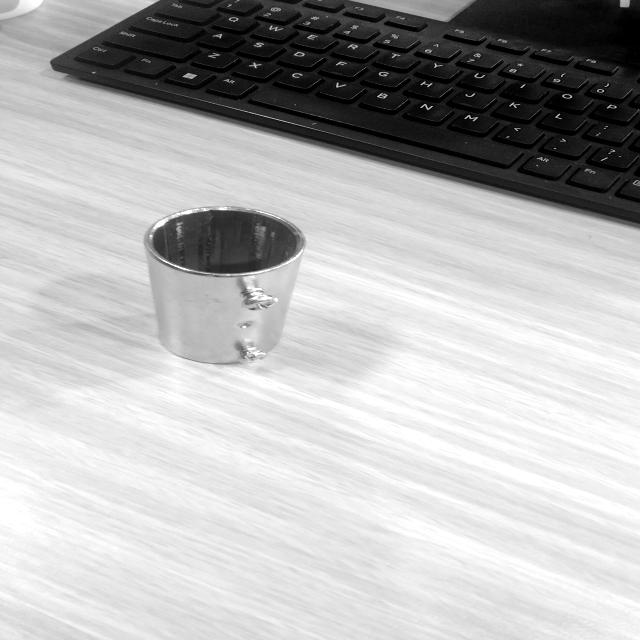Co_Lon: (144, 207, 305, 364)
